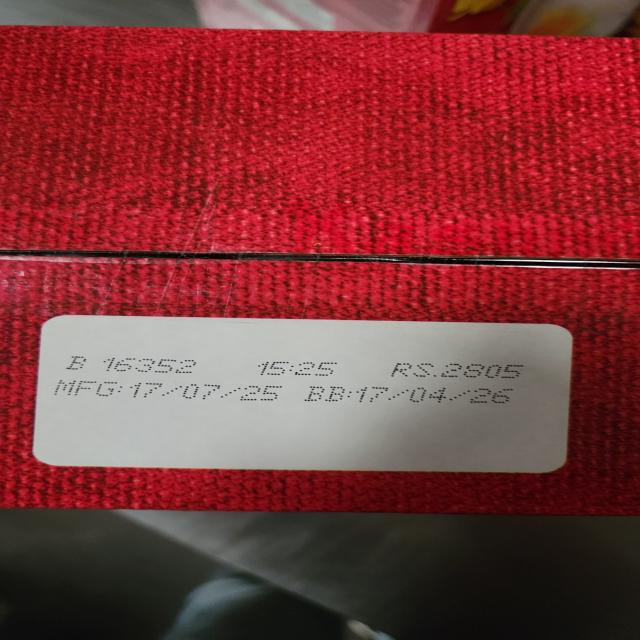BB: (304, 383, 524, 409)
Batch: (68, 353, 198, 375)
MFG: (58, 378, 288, 403)
RS: (391, 360, 526, 380)
TimeStamp: (256, 358, 345, 376)
